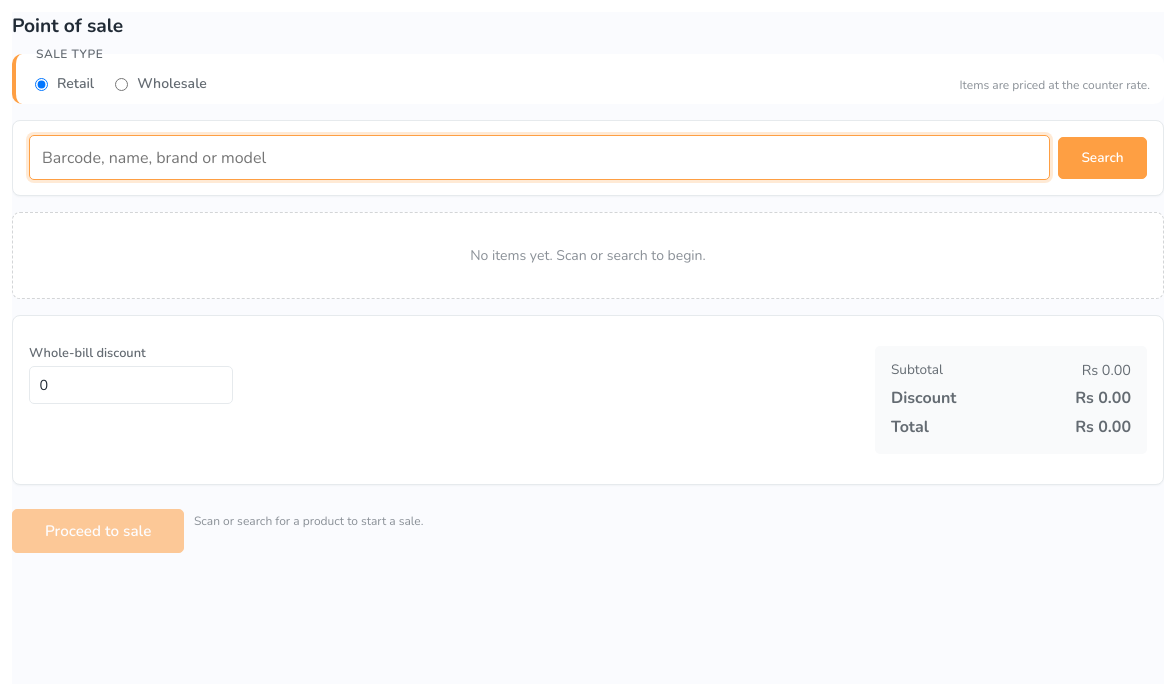
Test: POS search results › tells the salesman in the market how many are in his own bag
Type "type-c" into the field named "scan or search".
click(540, 158); type("type-c")  # box 29,135 -> 1050,180
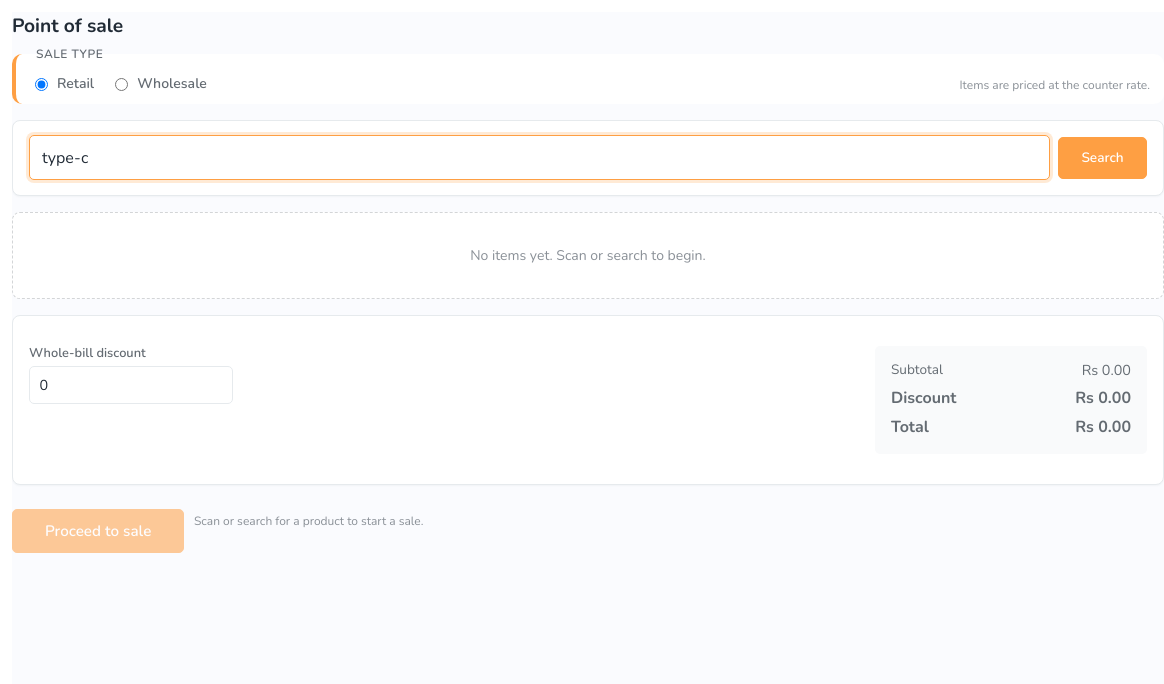
Press Enter
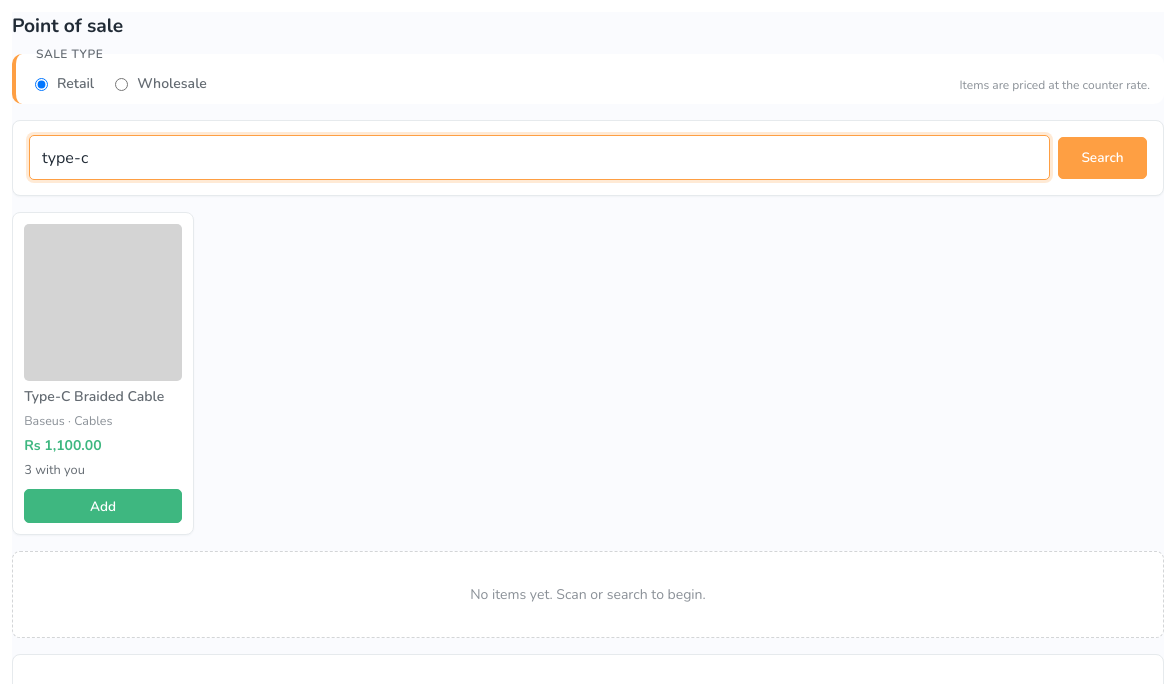
Check: the text with test id "stock-count" reads "3 with you", box 24,461 -> 85,479
